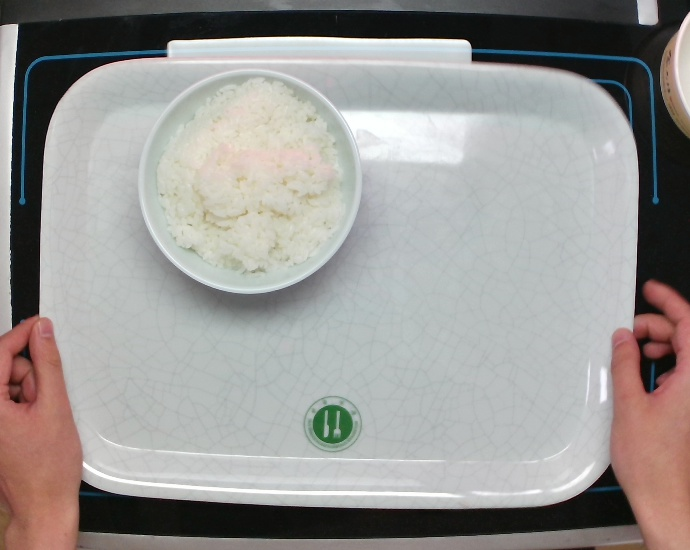JYsf-Fan_Wan: (135, 66, 365, 295)
